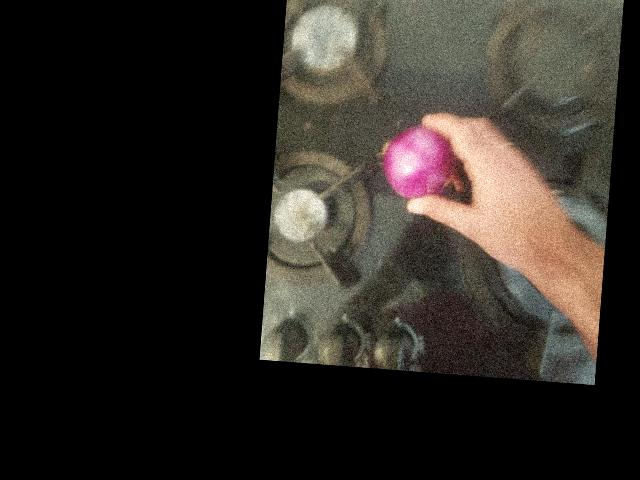onion: (351, 28, 417, 99)
